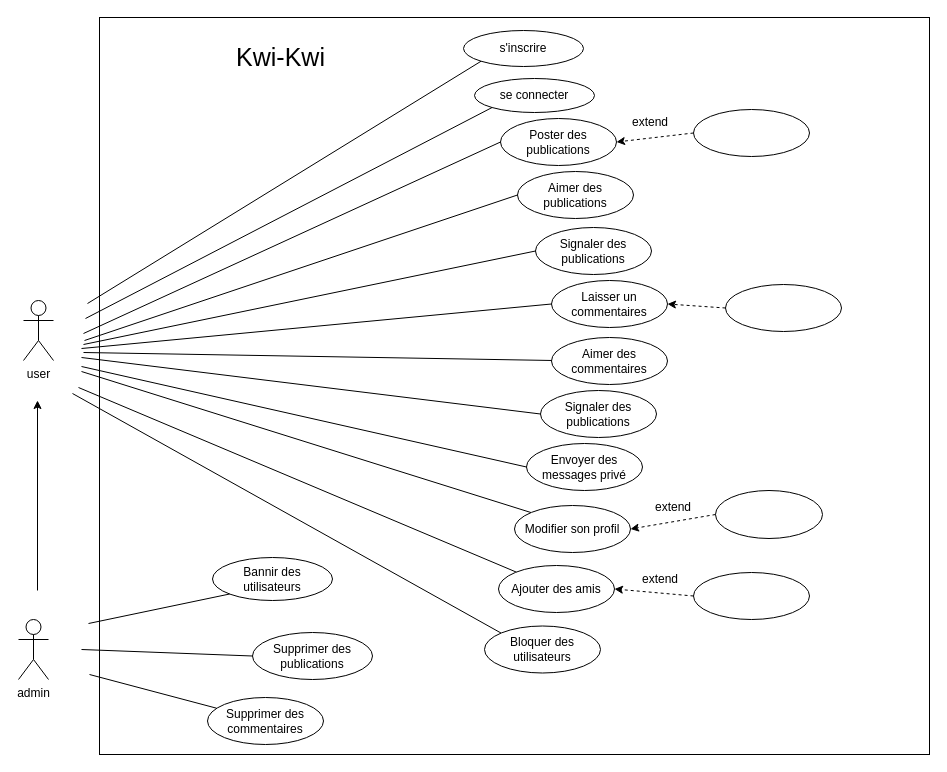
This 947x772 diagram has some shape labels left out. Here are the shapes that lost their labels. From the top down, the centre of each, then its label:
(751,132): Supprimer ses publications
(783,308): Supprimer ses commentaires
(768,514): Ajouter une photo de profil
(751,596): Supprimer des amis
